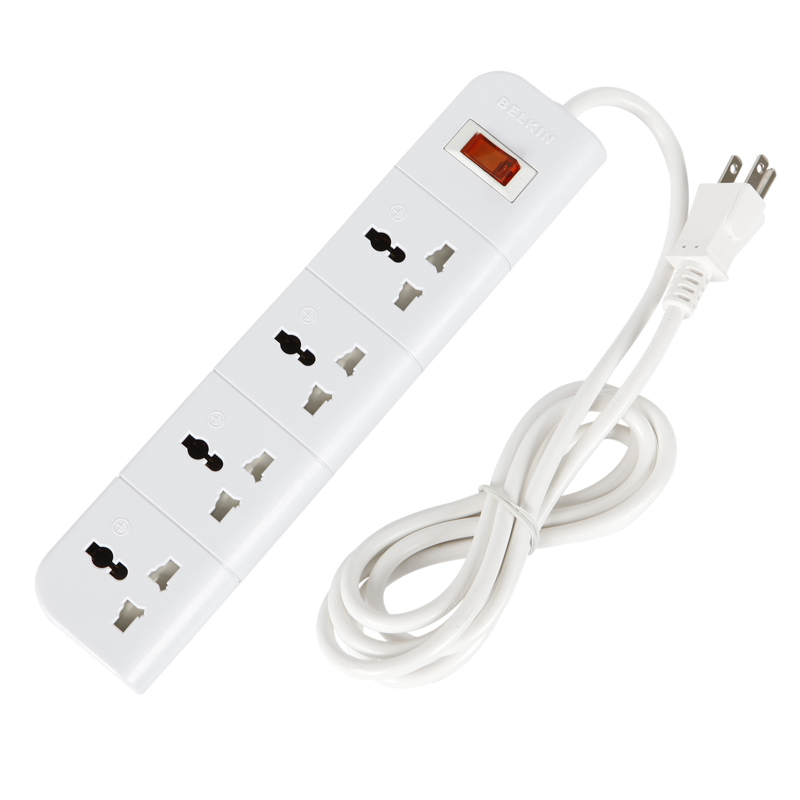Three_eye_plug: (25, 55, 623, 728)
